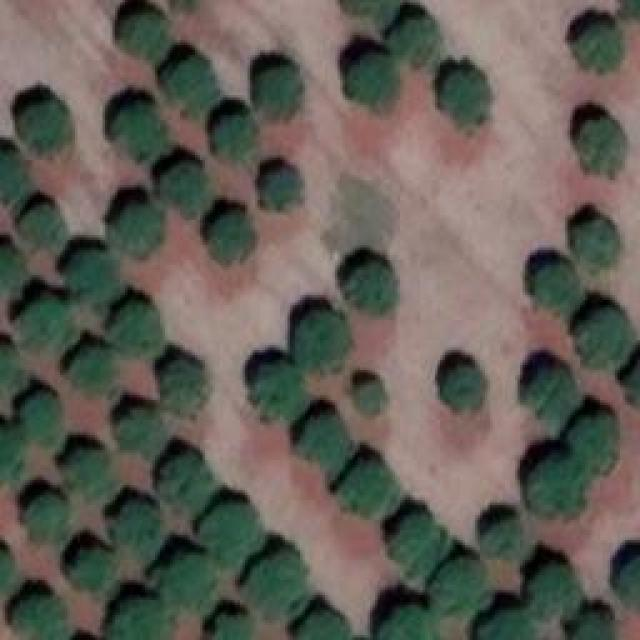Tree: (388, 508, 453, 578), (250, 550, 315, 615), (200, 500, 260, 560), (527, 455, 585, 515), (297, 312, 355, 370), (168, 53, 223, 113), (578, 308, 633, 368), (22, 100, 80, 155), (110, 105, 168, 160), (20, 298, 73, 358), (443, 65, 496, 125), (255, 360, 308, 418), (338, 58, 398, 108), (300, 410, 353, 465), (343, 460, 398, 513), (530, 558, 583, 613), (395, 10, 445, 68), (577, 118, 625, 178), (343, 263, 396, 316), (117, 300, 165, 358), (210, 108, 260, 163), (158, 455, 208, 510), (575, 408, 618, 471), (210, 208, 258, 263), (257, 63, 305, 118), (572, 215, 620, 270), (430, 565, 485, 613), (165, 155, 213, 208), (162, 560, 210, 613), (70, 253, 120, 303), (113, 205, 163, 255), (523, 370, 573, 418), (23, 495, 68, 548), (533, 260, 578, 313), (118, 497, 158, 555), (120, 405, 168, 453), (23, 388, 66, 441), (440, 363, 483, 416), (163, 363, 208, 413), (112, 602, 170, 640), (263, 160, 308, 208), (123, 10, 168, 58), (572, 25, 620, 70), (18, 592, 63, 640), (68, 445, 113, 490), (25, 203, 68, 248), (382, 607, 439, 640), (477, 607, 532, 640), (70, 348, 115, 388), (338, 0, 401, 28), (295, 610, 350, 640), (0, 148, 28, 203), (480, 520, 520, 558), (75, 543, 110, 586), (353, 380, 388, 420), (0, 428, 25, 481), (580, 610, 620, 640), (622, 555, 640, 618), (210, 615, 250, 640), (0, 343, 18, 393), (0, 240, 18, 280), (615, 0, 640, 28)
